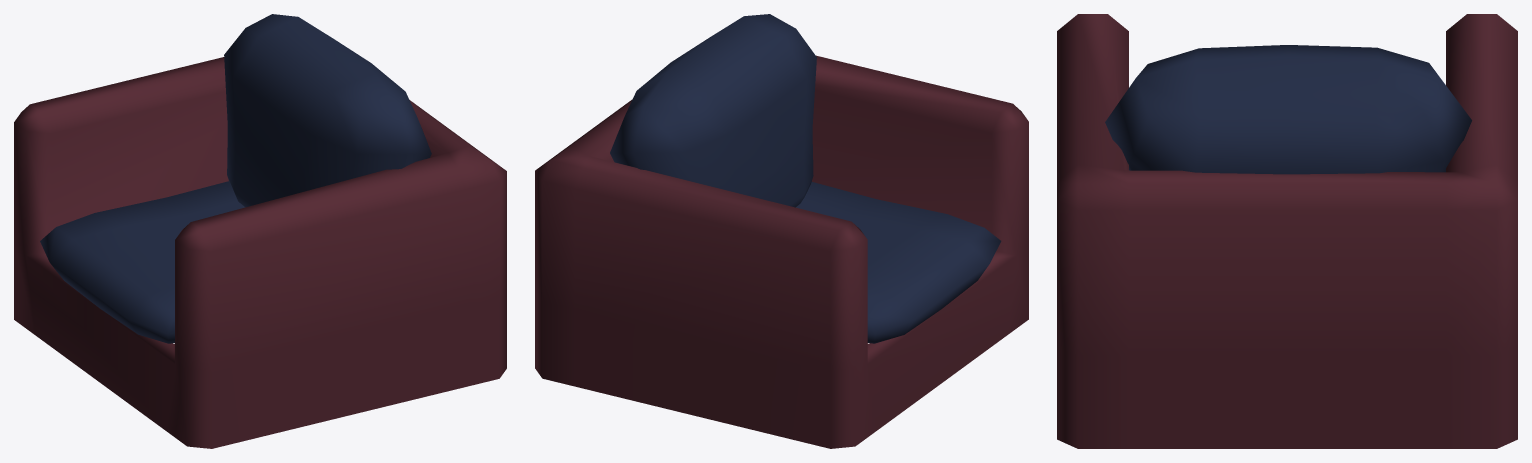
The model's file is sofa_1.fbx.
3 views of the same model, side by side, from view 1: azimuth 30°, elevation 25°; view 2: azimuth 150°, elevation 25°; view 3: azimuth 270°, elevation 25° (orthographic). The views are drawn at different scales.
Parts seen in each view (by area): view 1: Cube.001; view 2: Cube.001; view 3: Cube.001.
Part boxes in pixels (x1,y1,x2,y2): Cube.001: [14, 14, 506, 448]; Cube.001: [535, 14, 1028, 448]; Cube.001: [1057, 14, 1517, 448].
Size of the model in its own units: 186 by 152 by 185.
Materials: 1 (1 with a texture image).
